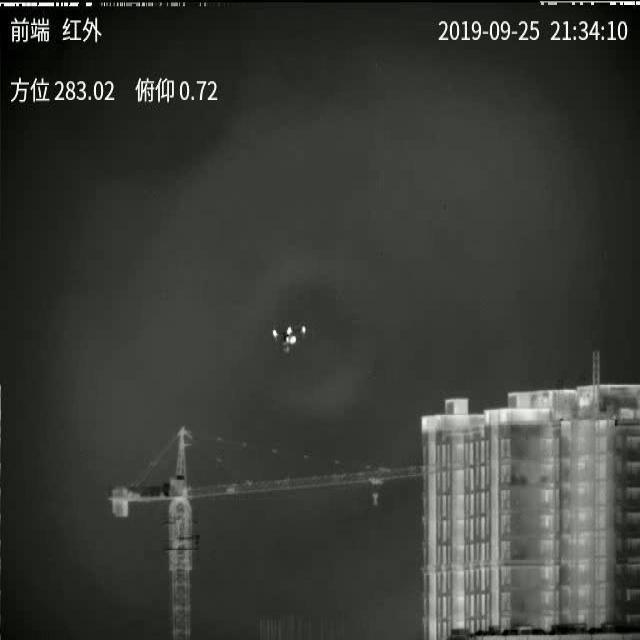drone: (272, 326, 307, 354)
